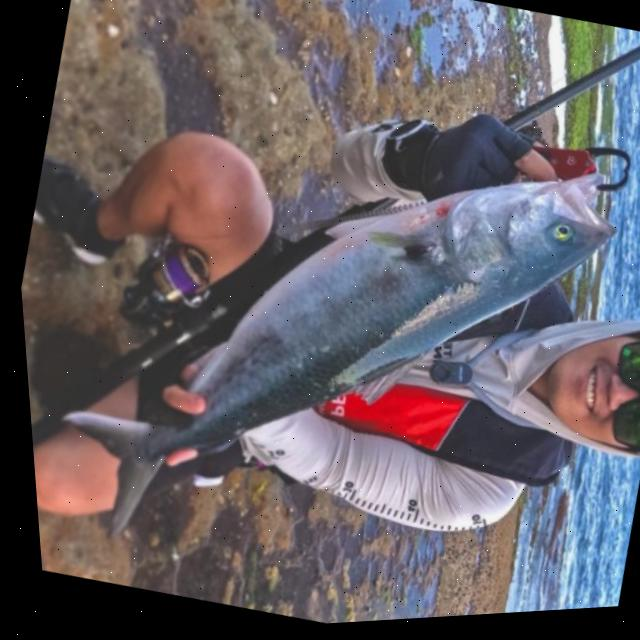Australian Salmon: (5, 51, 640, 640)
